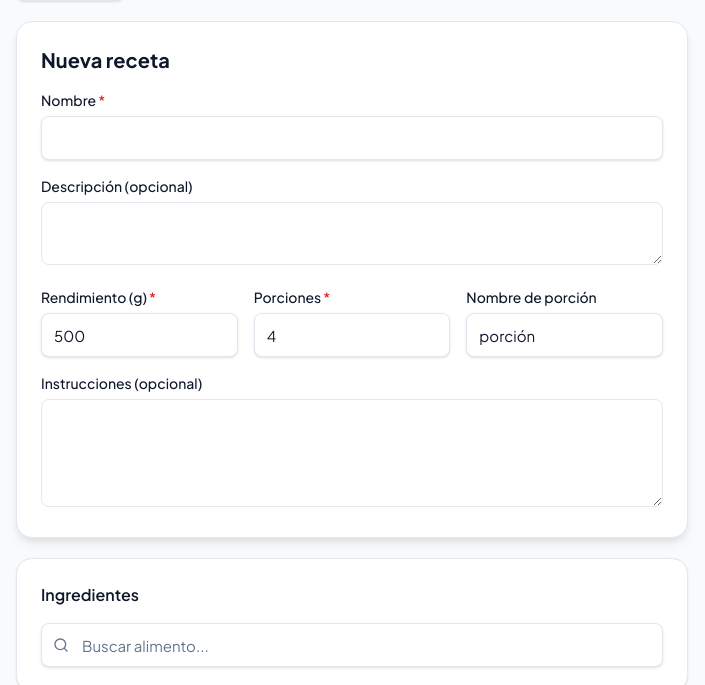
RecipeEditorPage — micronutrient availability preview › uses the server-side preview endpoint and never recalculates authoritative totals client-side
This screenshot has width=705, height=685.
Type "espinaca" into the field with placeholder "Buscar alimento..." at (352, 645), box [41,623,663,667]
(page scrolled)
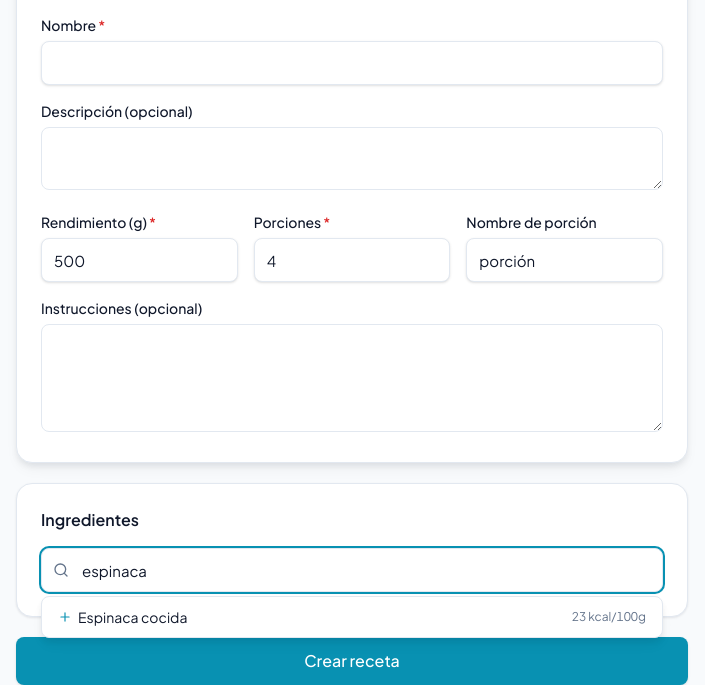
Click the text "Espinaca cocida" at (123, 617), box [58,607,188,627]
(page scrolled)
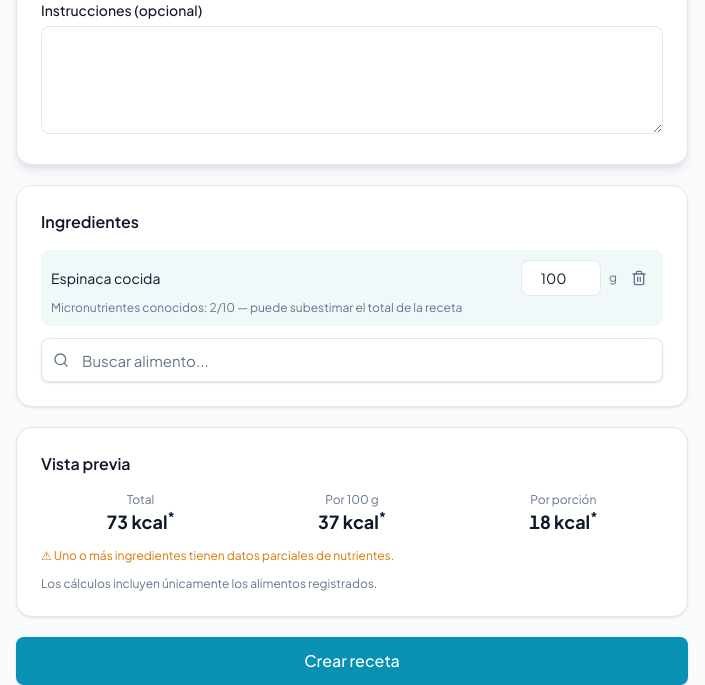
Check: the heading "Vista previa" is shown, box [41,452,131,476]
Check: the text "37 kcal*" is shown, box [318,510,386,533]
